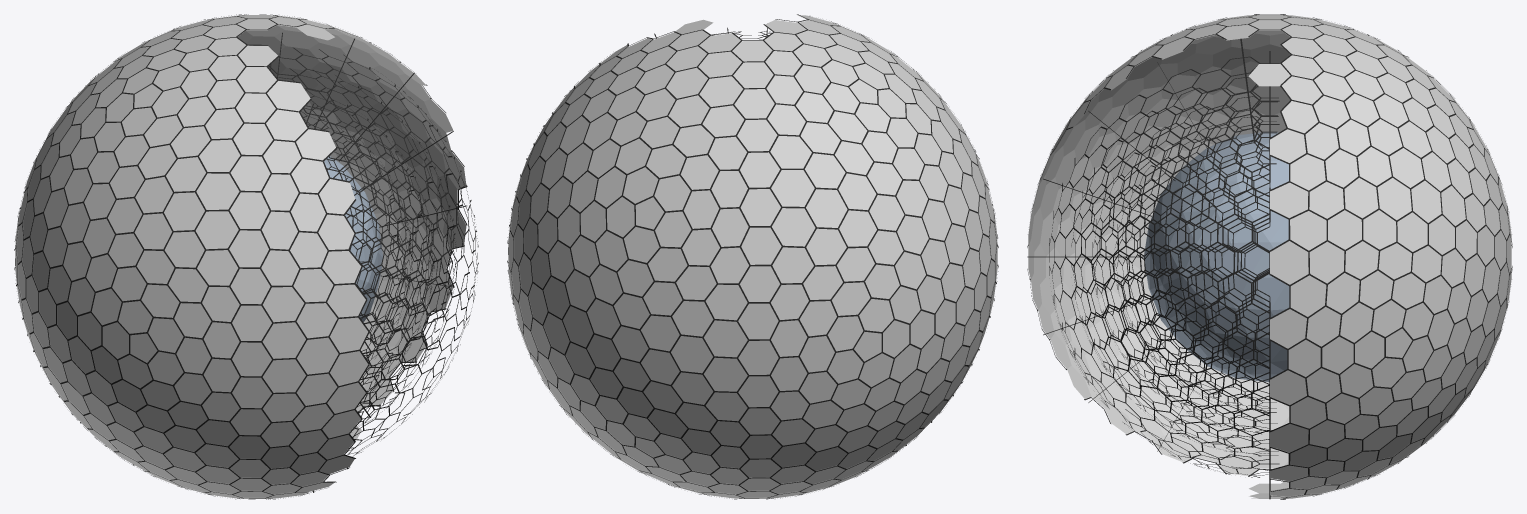
The model's file is HexIcosahedral_grid_3D_cutaway.glb.
The picture shows the model from 3 angles, left to right: view 1: azimuth 30°, elevation 25°; view 2: azimuth 150°, elevation 25°; view 3: azimuth 270°, elevation 25°; orthographic projection.
Size of the model in its own units: 1 by 1 by 1.
